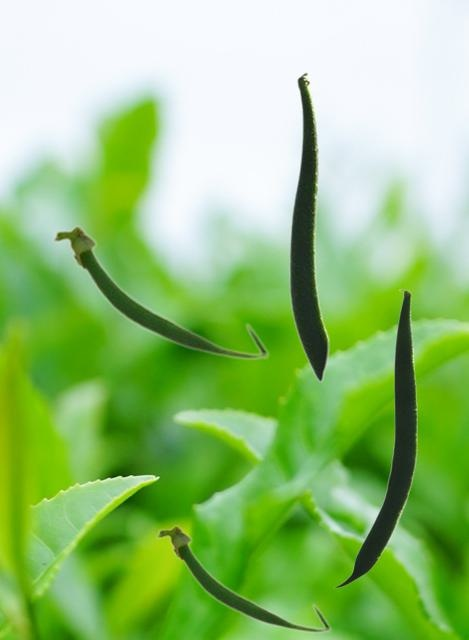french_bean: (51, 223, 269, 360), (333, 289, 416, 587), (155, 523, 331, 633), (288, 71, 329, 382)
